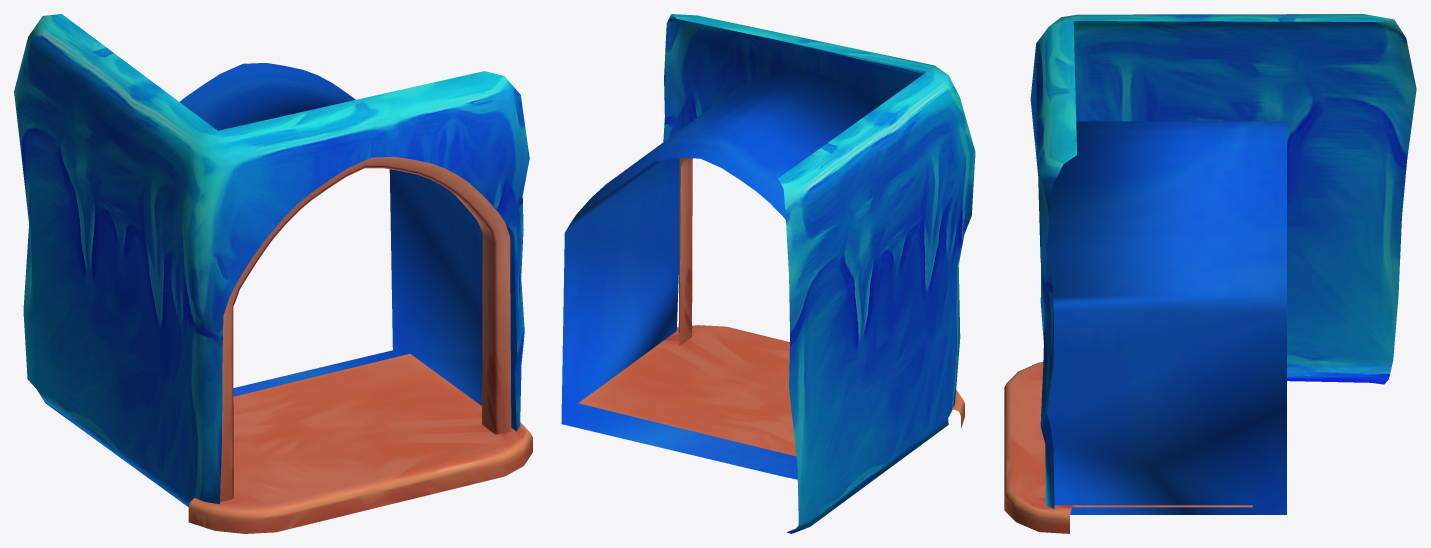
Rendered from IceCubeDoorExit.fbx.
The picture shows the model from 3 angles, left to right: view 1: azimuth 30°, elevation 25°; view 2: azimuth 150°, elevation 25°; view 3: azimuth 270°, elevation 25°; orthographic projection. The views are drawn at different scales.
Visible parts, largest first — view 1: ice_cube_door_exit; view 2: ice_cube_door_exit; view 3: ice_cube_door_exit.
Boxes of the visible parts, x1=… form: ice_cube_door_exit: x1=14, y1=14, x2=532, y2=533; ice_cube_door_exit: x1=561, y1=14, x2=975, y2=533; ice_cube_door_exit: x1=1004, y1=14, x2=1416, y2=533.
Bounding box in the file's own units: 99.99 × 107 × 108.
